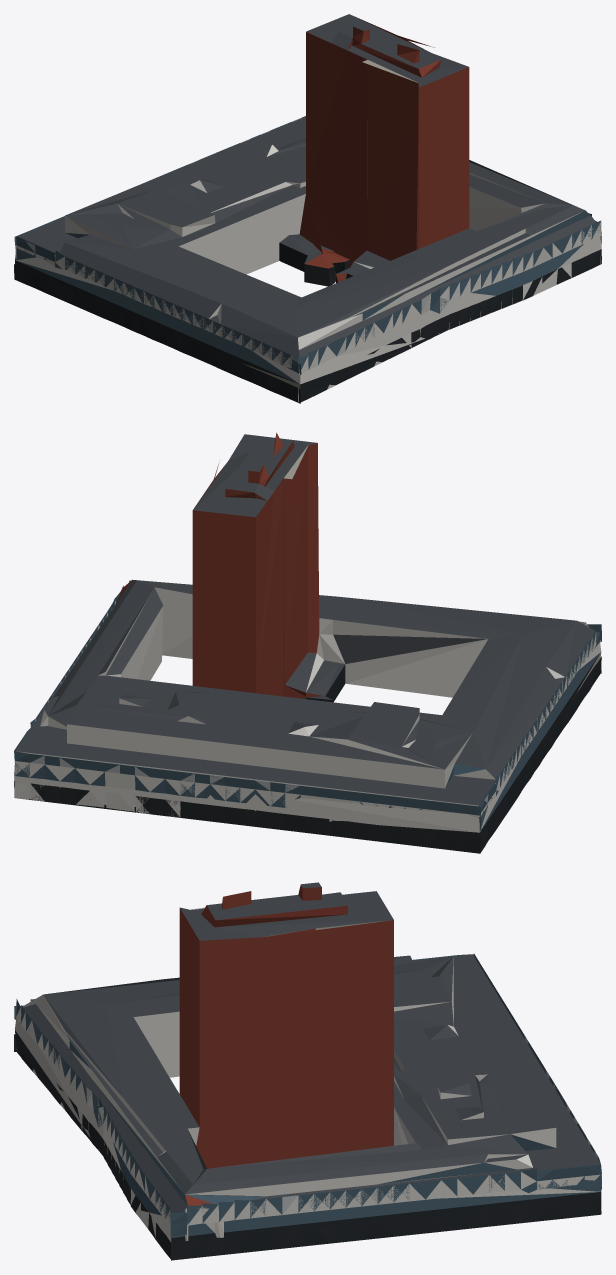
File: de-nederlandsche-bank.lod2.glb
3 renders of one model, top to bottom at view 1: azimuth 30°, elevation 25°; view 2: azimuth 150°, elevation 25°; view 3: azimuth 270°, elevation 25°, orthographic. The views are drawn at different scales.
Parts seen in each view (by area): view 1: lod2; view 2: lod2; view 3: lod2.
Part boxes in pixels (left/top/right/bottom): lod2: left=14, top=14, right=601, bottom=403; lod2: left=14, top=432, right=601, bottom=853; lod2: left=14, top=882, right=601, bottom=1260.
Size of the model in its own units: 145 by 71.75 by 140.
